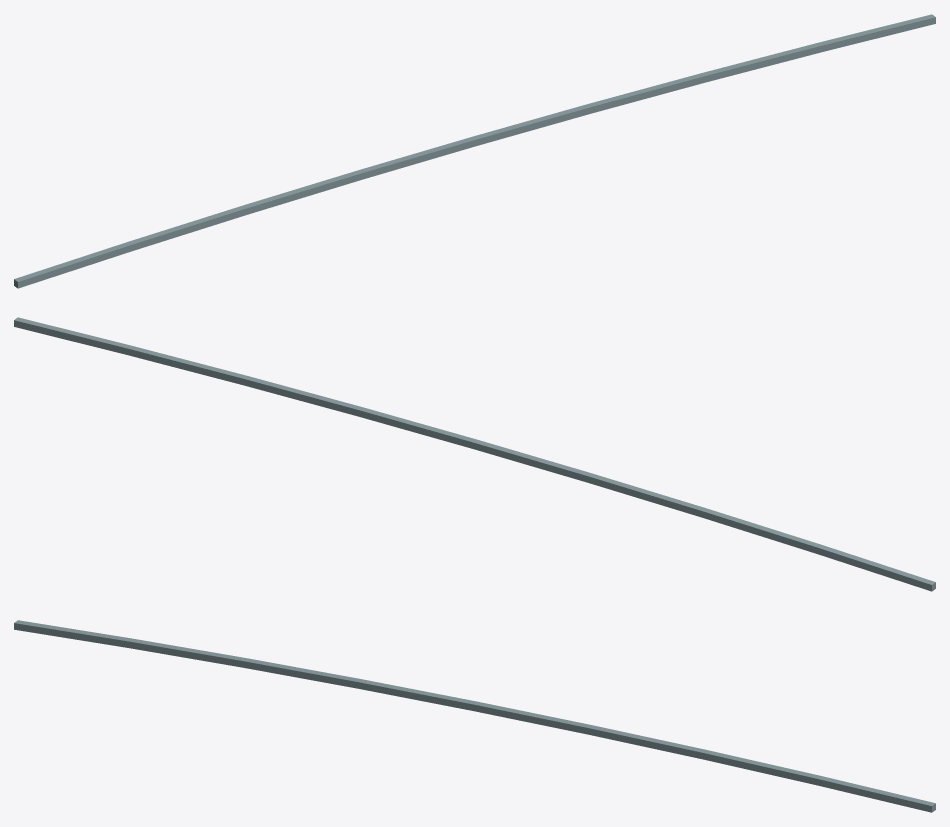
Rendered from RoadPlan_RampParapet_2L_Rise8_L110_UpperVerticalCurve_ToeRail_-1.glb.
The picture shows the model from 3 angles, top to bottom: view 1: azimuth 30°, elevation 25°; view 2: azimuth 150°, elevation 25°; view 3: azimuth 330°, elevation 25°; orthographic projection.
Visible parts, largest first — view 1: RoadPlan_RampParapet_2L_Rise8_L110_UpperVerticalCurve_ToeRai; view 2: RoadPlan_RampParapet_2L_Rise8_L110_UpperVerticalCurve_ToeRai; view 3: RoadPlan_RampParapet_2L_Rise8_L110_UpperVerticalCurve_ToeRai.
Boxes of the visible parts, left/top/right/bottom form: RoadPlan_RampParapet_2L_Rise8_L110_UpperVerticalCurve_ToeRai: left=14, top=14, right=935, bottom=288; RoadPlan_RampParapet_2L_Rise8_L110_UpperVerticalCurve_ToeRai: left=14, top=317, right=935, bottom=591; RoadPlan_RampParapet_2L_Rise8_L110_UpperVerticalCurve_ToeRai: left=14, top=620, right=935, bottom=812.
Bounding box in the file's own units: 16 × 0.7909 × 0.12.
